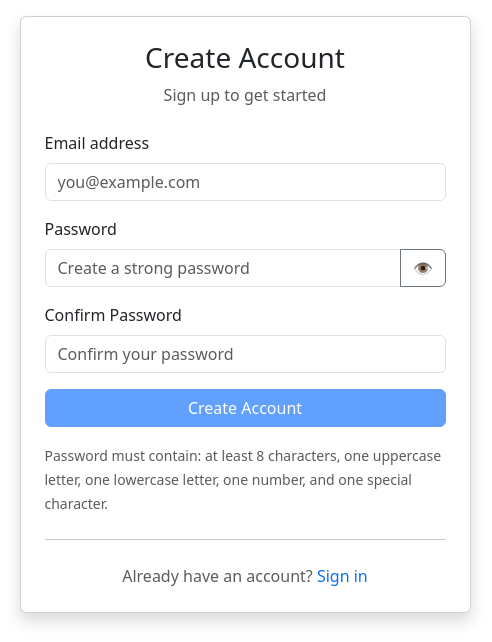
Test: RegisterPage › should toggle password visibility
Click the button named "Show password" at (422, 268), box [400,249,446,287]
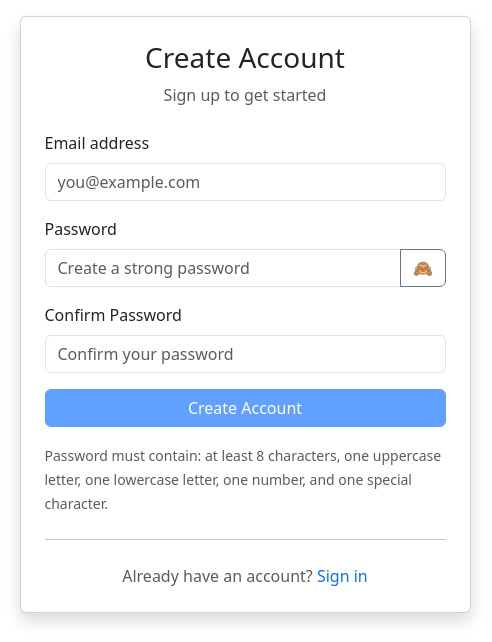
Now the button named "Hide password" is shown, box [400,249,446,287]
